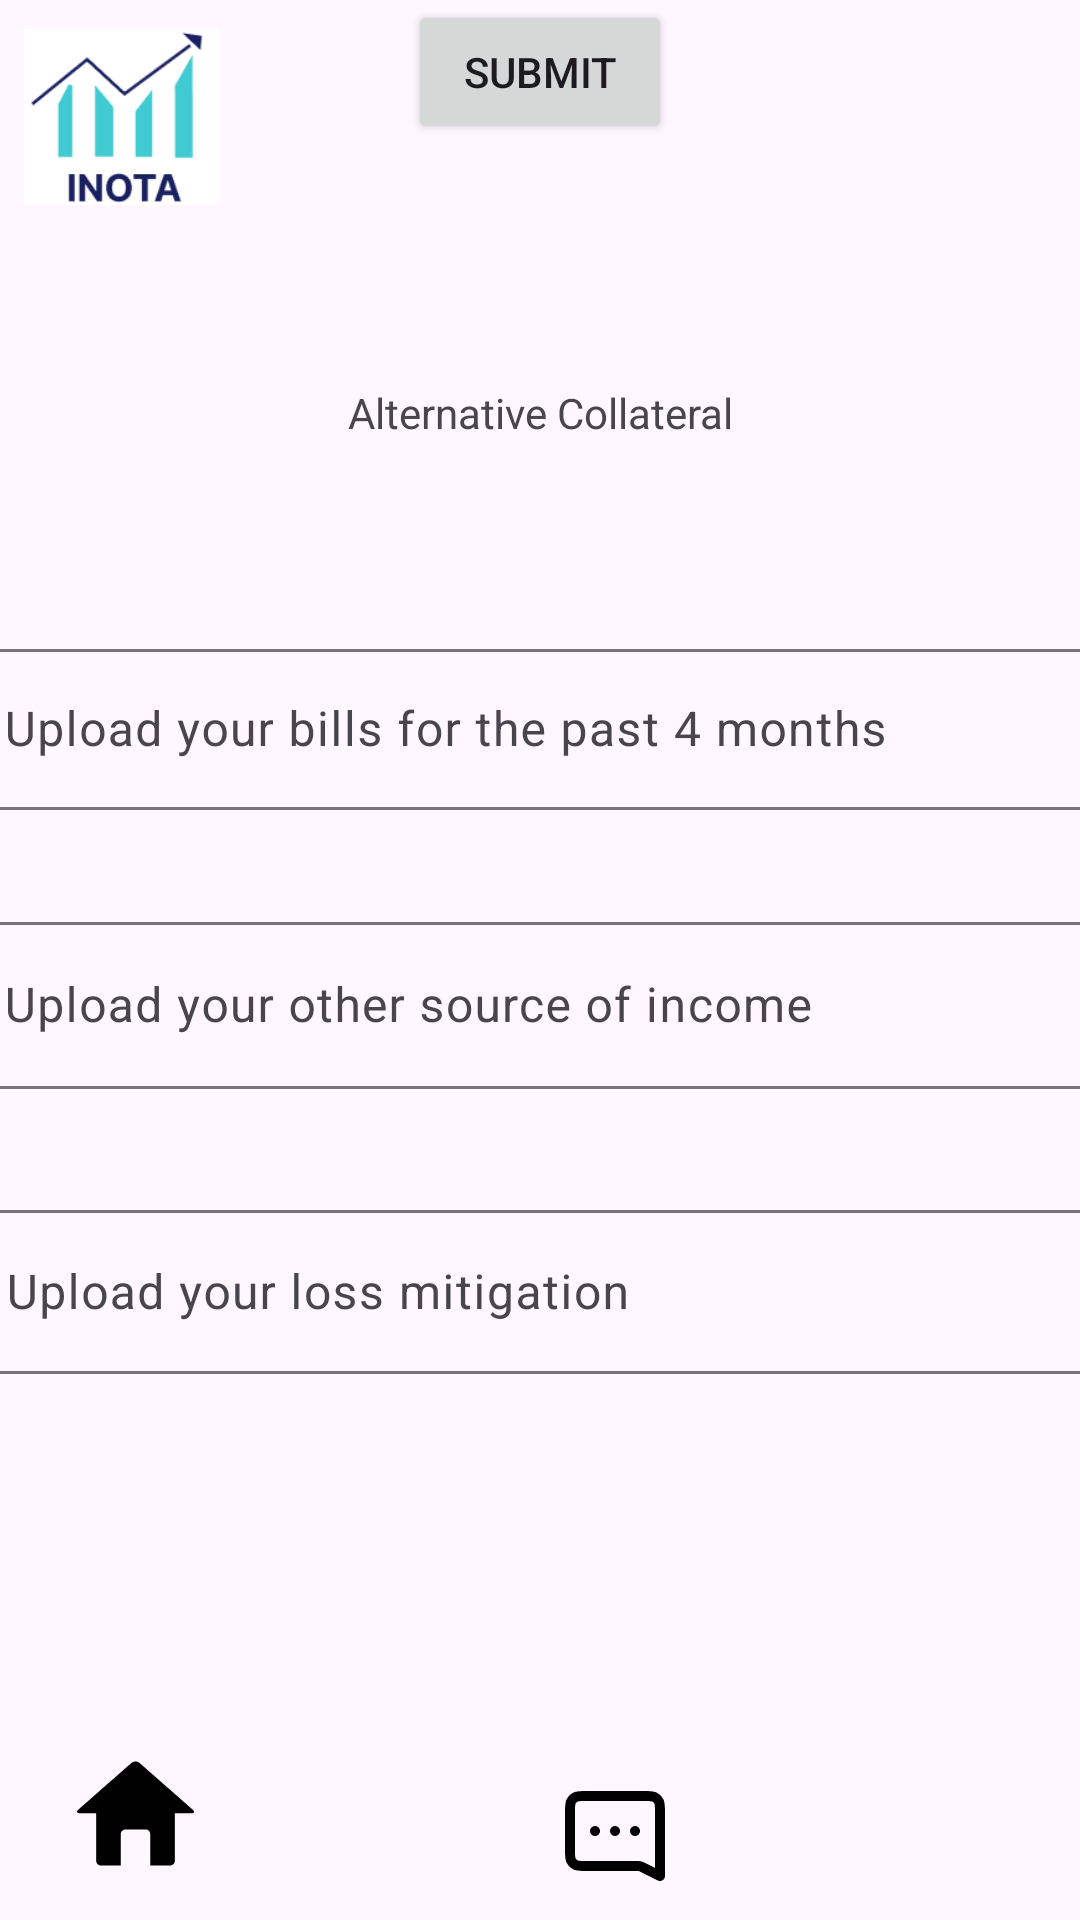

Icons on this 1080x1920 Android screen, each with its box as bbox=(x1, y1, x2, y2):
home: bbox=(77, 1761, 194, 1866)
message square dots: bbox=(565, 1791, 665, 1881)
